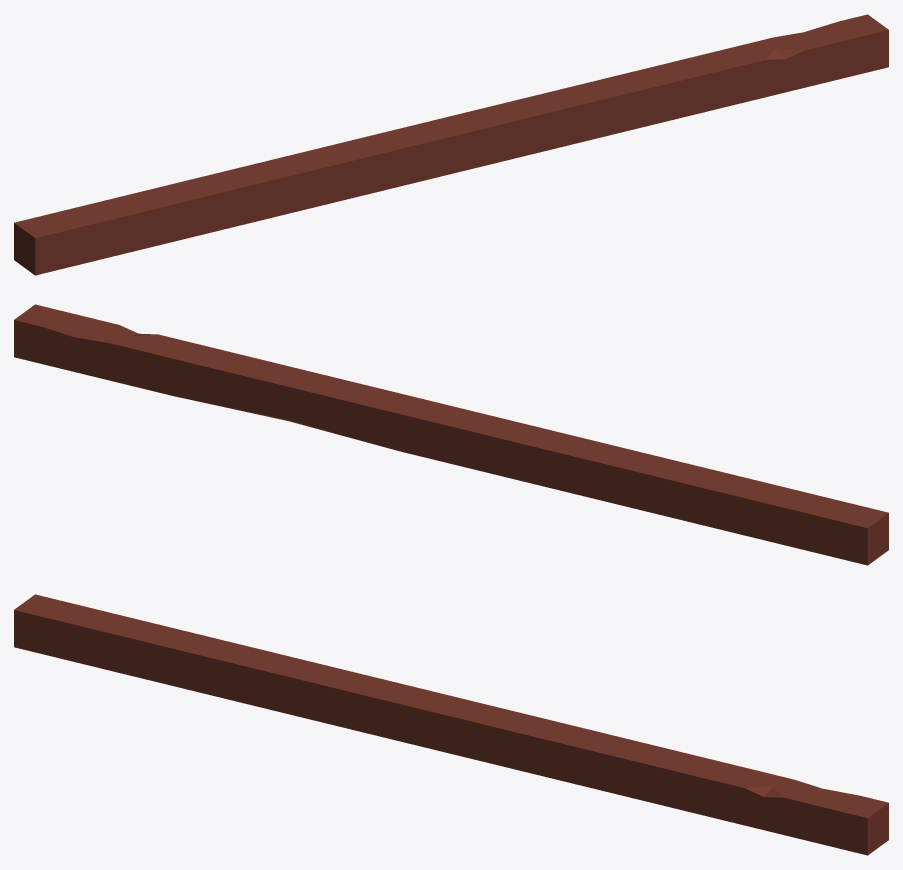
File: SFFA_Building_RoofSupport.fbx
3 renders of one model, top to bottom at view 1: azimuth 30°, elevation 25°; view 2: azimuth 150°, elevation 25°; view 3: azimuth 330°, elevation 25°, orthographic.
Parts seen in each view (by area): view 1: SFFA_Building_RoofSupport; view 2: SFFA_Building_RoofSupport; view 3: SFFA_Building_RoofSupport.
Boxes of the visible parts, x1=… form: SFFA_Building_RoofSupport: x1=14, y1=14, x2=888, y2=275; SFFA_Building_RoofSupport: x1=14, y1=304, x2=888, y2=565; SFFA_Building_RoofSupport: x1=14, y1=594, x2=888, y2=855.
Size of the model in its own units: 1133 by 47.34 by 48.68.
